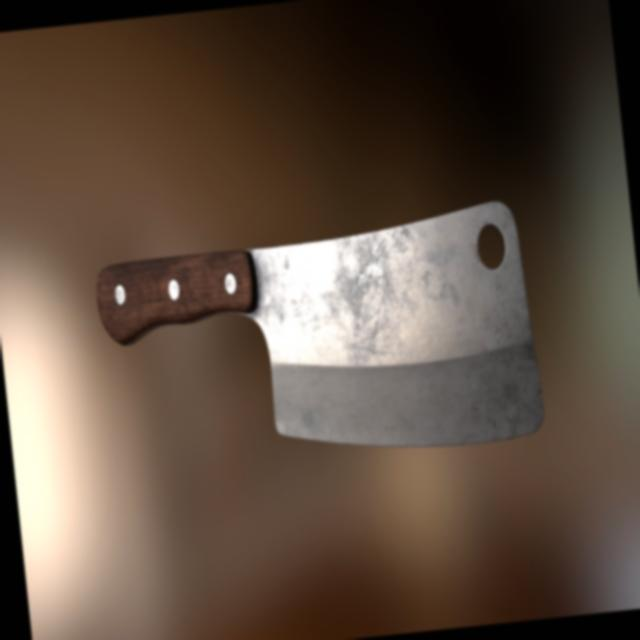cleaver: (93, 193, 537, 462)
